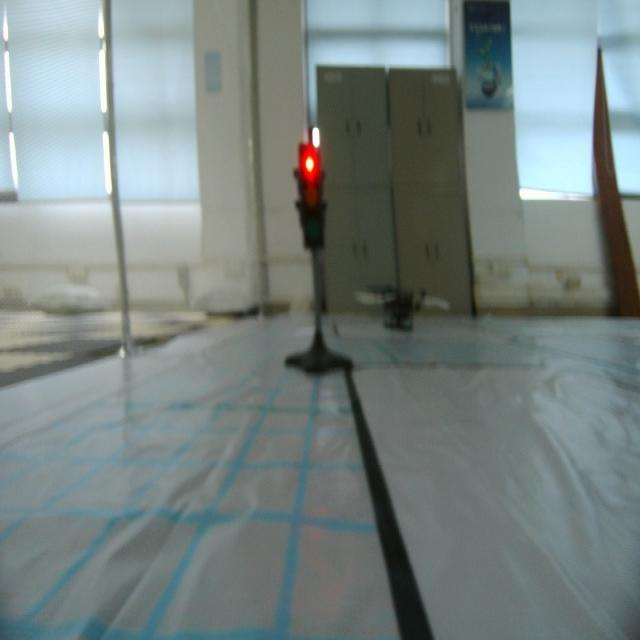red: (295, 143, 329, 256)
